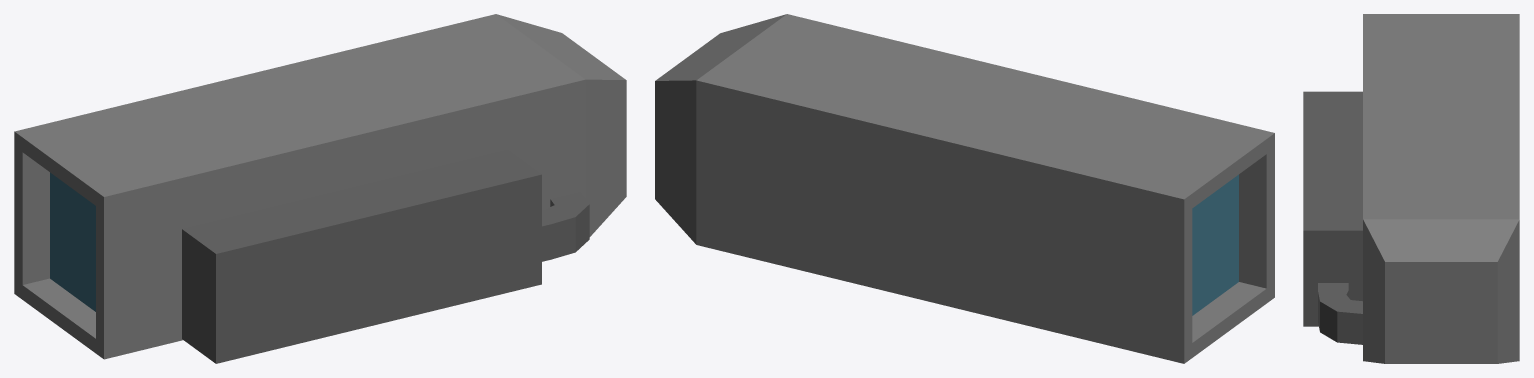
Rendered from TestFlashlight.fbx.
3 renders of one model, left to right at view 1: azimuth 30°, elevation 25°; view 2: azimuth 150°, elevation 25°; view 3: azimuth 270°, elevation 25°, orthographic. The views are drawn at different scales.
Parts seen in each view (by area): view 1: Cube; view 2: Cube; view 3: Cube.
Part boxes in pixels (bbox=[...]): Cube: bbox=[14, 14, 626, 363]; Cube: bbox=[655, 14, 1274, 363]; Cube: bbox=[1303, 14, 1519, 363].
Bounding box in the file's own units: 44.21 × 12.82 × 17.72.
Materials: 1 (1 with a texture image).
